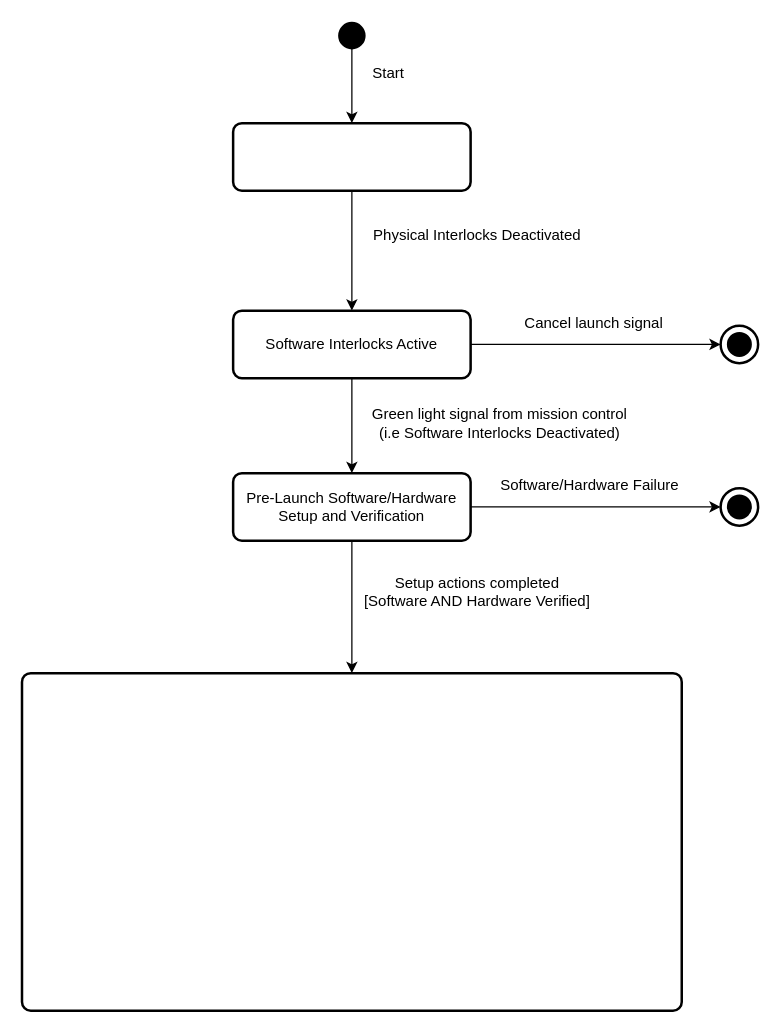
Some shapes in this 781 by 1033 pixel diagram are drawn without their labels. The shapes that lost their labels are listed below. From the top down, each one's box as (x1, y1, x2, y2) in pixels, then its label:
(231, 121, 471, 191): Physical Interlocks Active
(20, 671, 682, 1011): Flight
